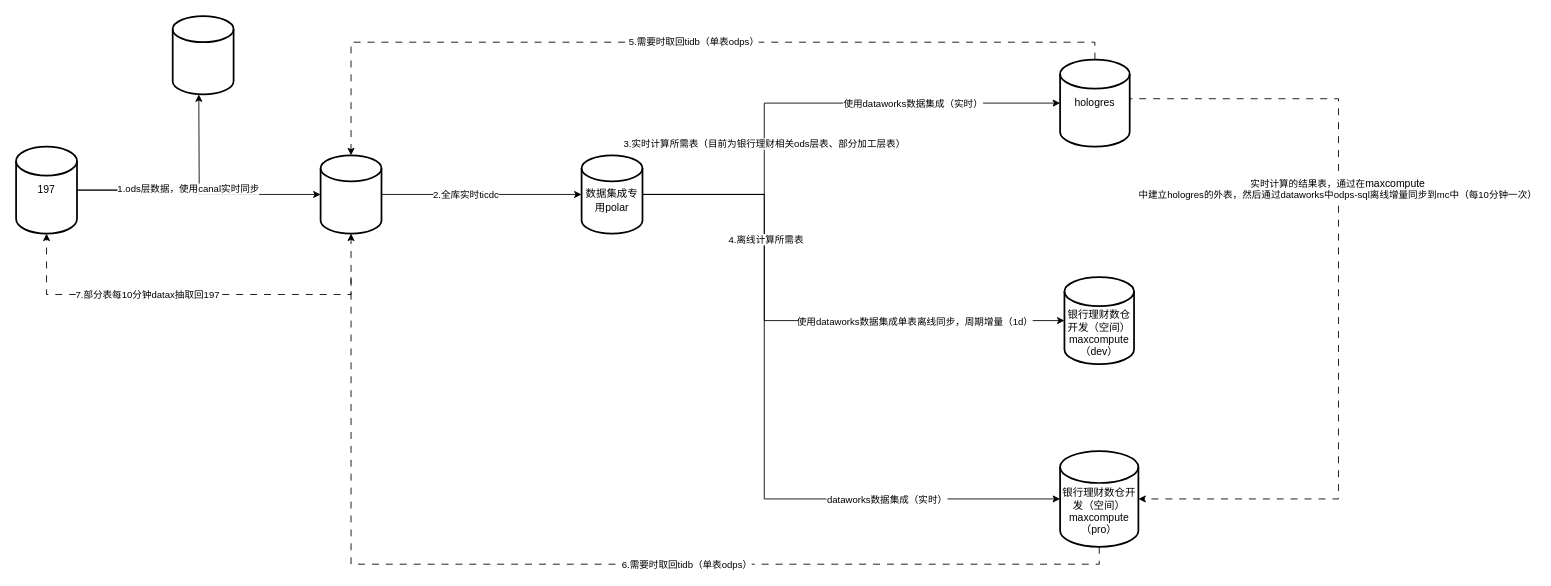
This 1551x586 diagram has some shape labels left out. Here are the shapes that lost their labels. From the top down, the centre of each, then its label:
[202,55]: tidb灰度
[350,194]: tidb
